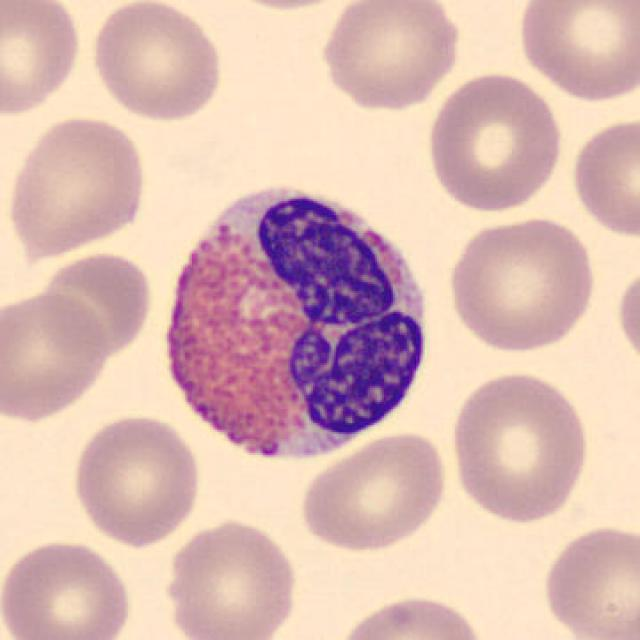Eosinophil: (148, 162, 442, 480)
RBC: (446, 367, 594, 525), (443, 212, 599, 354), (2, 111, 151, 259), (423, 69, 567, 215), (295, 428, 452, 554), (68, 411, 204, 548), (162, 515, 300, 640), (87, 0, 225, 123), (315, 0, 464, 113), (0, 287, 112, 423), (0, 534, 137, 640), (32, 248, 158, 362), (512, 0, 638, 104), (537, 520, 638, 640), (0, 0, 85, 120), (567, 113, 640, 240), (332, 590, 488, 640), (614, 259, 638, 377), (208, 0, 361, 14)
